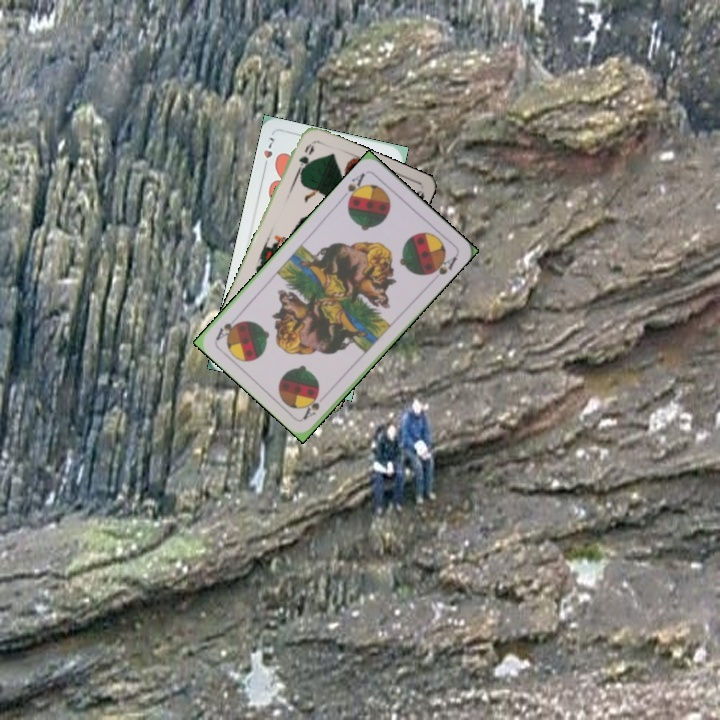GO: (292, 139, 317, 179)
H7: (259, 133, 277, 172)
SA: (343, 168, 368, 206), (299, 391, 322, 422)
